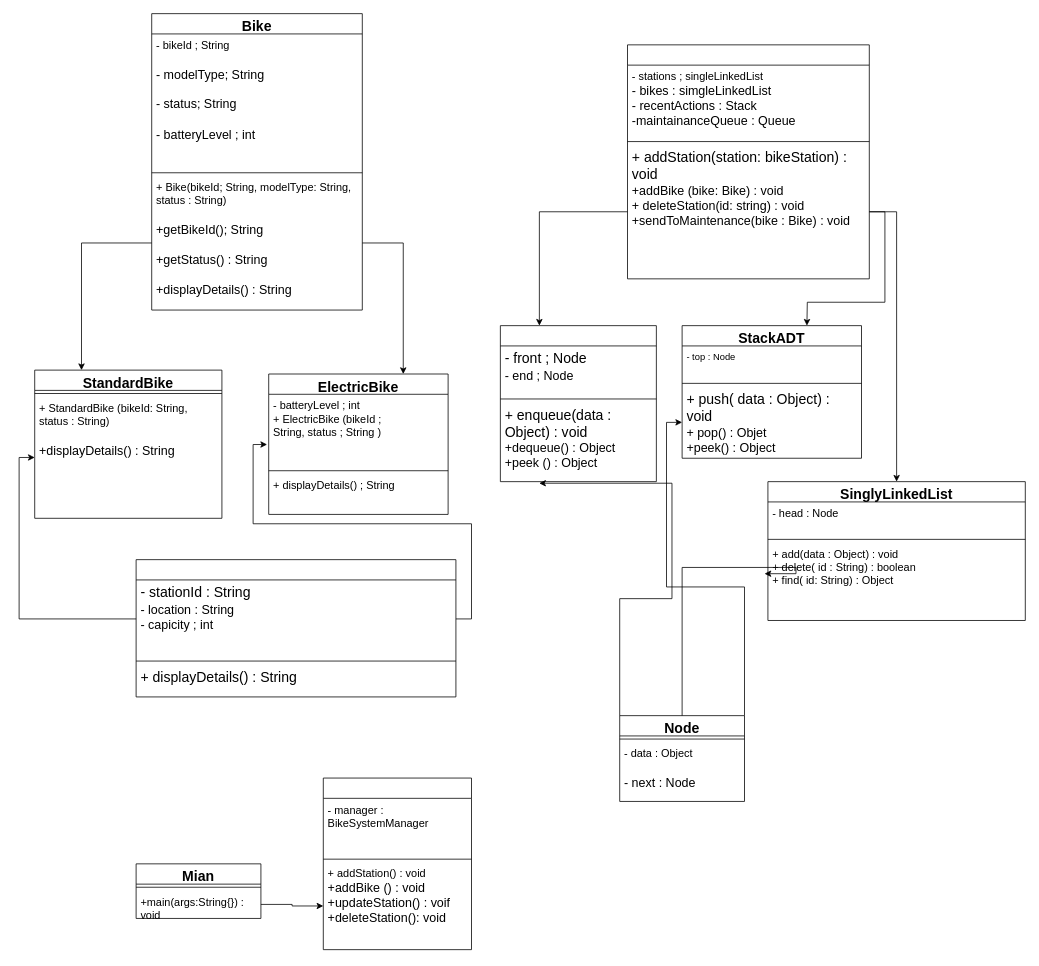
The diagram is 1039 pixels wide and 966 high, and some of its shapes have lost their labels. Each missing label, with the box of its shape:
BikeStation: (135, 559, 456, 697)
BikeSystemManager: (627, 44, 869, 279)
MainGUI: (323, 777, 472, 950)
QueueADT: (500, 325, 656, 482)
